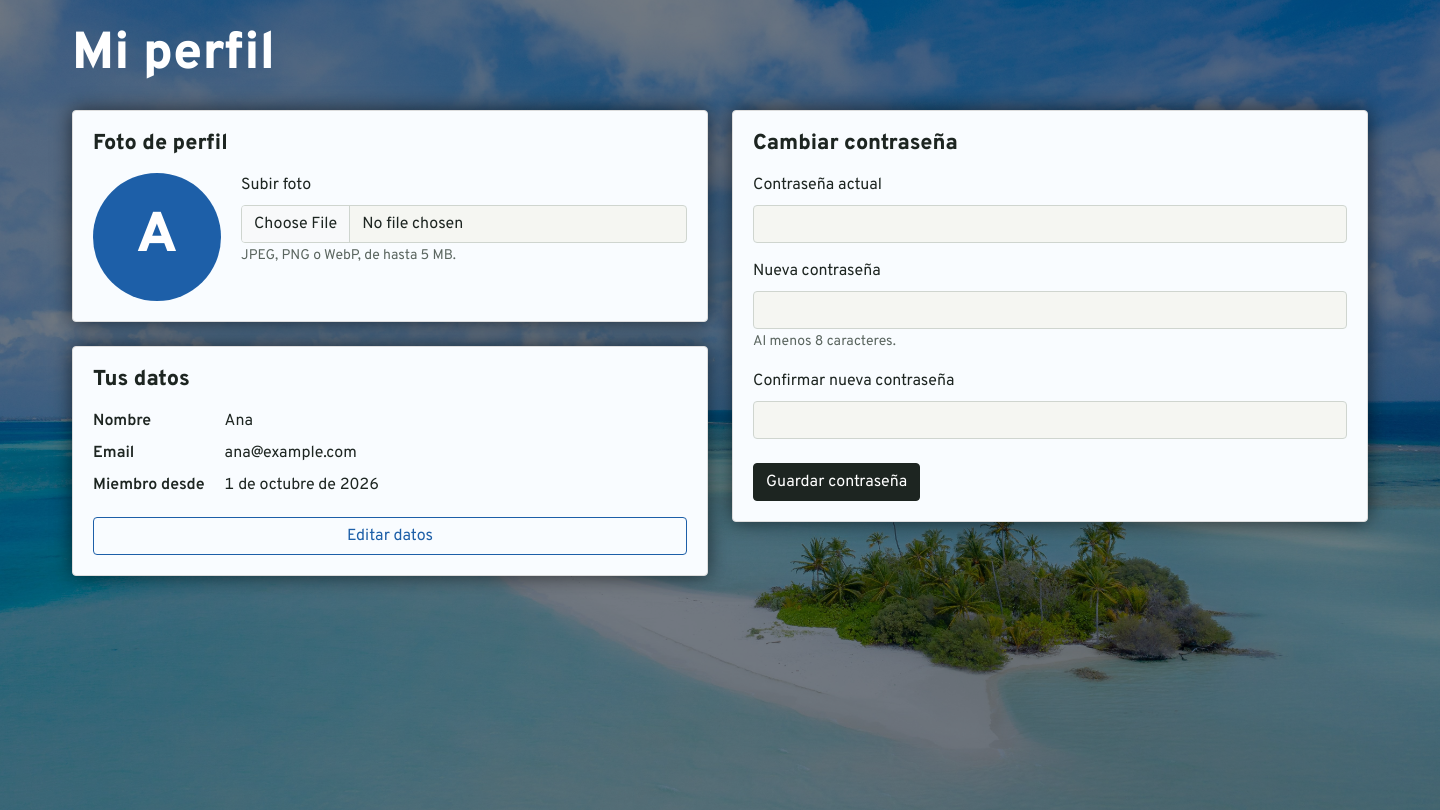
it: B3 ProfilePage details › edit mode starts with the current values and Cancel goes back
This screenshot has width=1440, height=810.
Expected: the heading "Tus datos" is shown, [93,366,190,393]
Click the button "Editar datos".
click(390, 536)  # box [93,517,687,555]
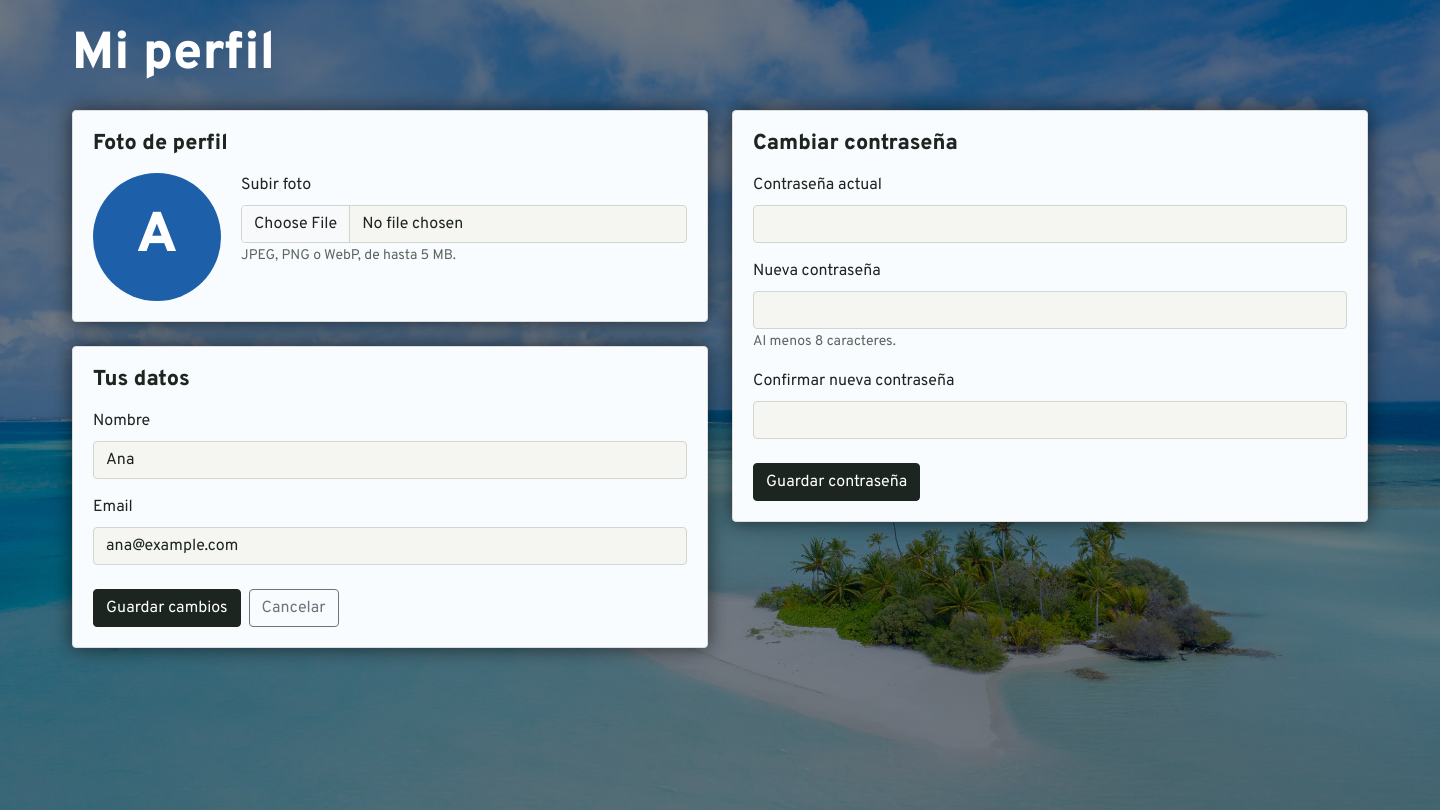
Result: the field labelled "Nombre" holds "Ana"
Result: the field labelled "Email" holds "ana@example.com" at [93,527,687,565]
Replace the text in the field labelled "Nombre" with "Otra" at (390, 460), box [93,441,687,479]
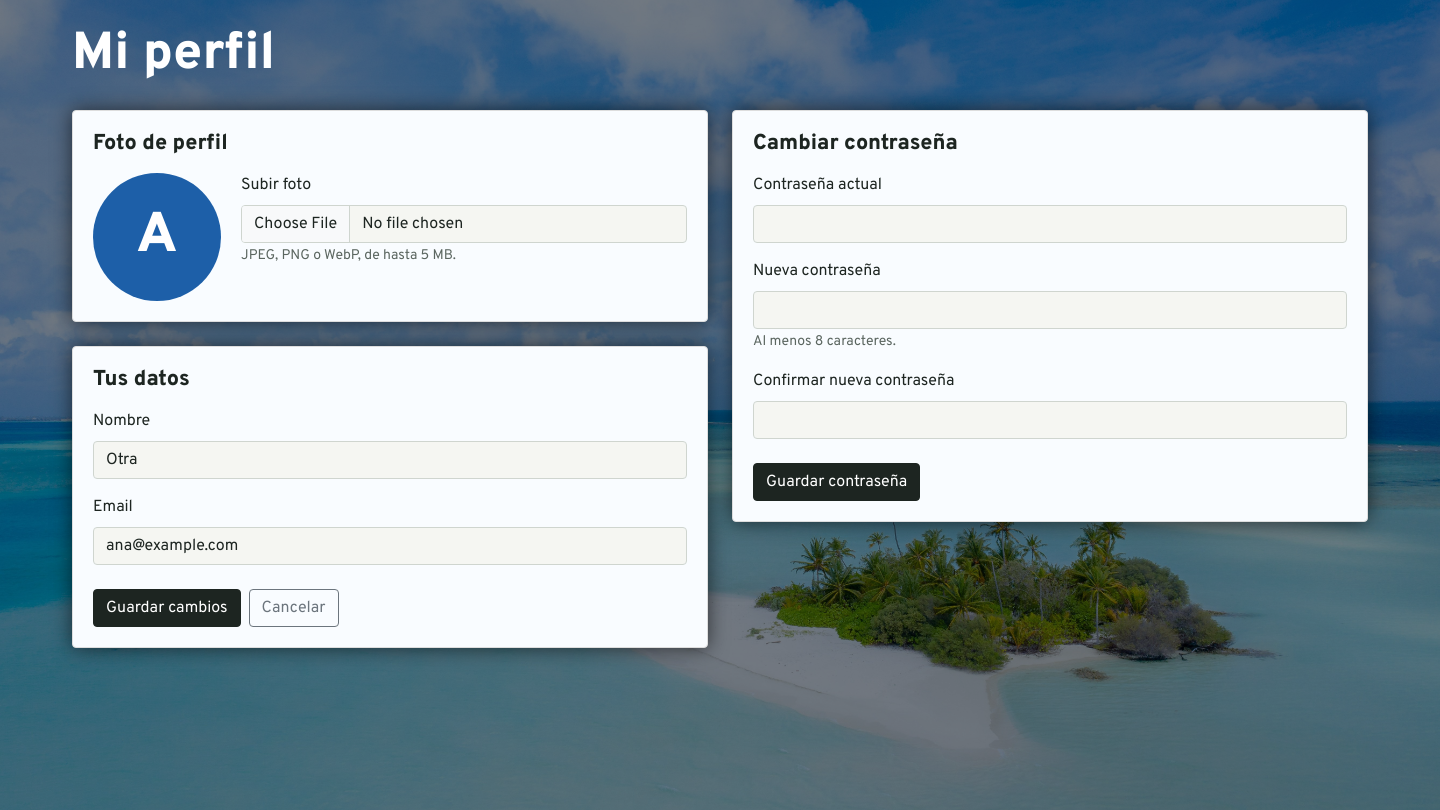
Click the button "Cancelar".
click(294, 608)  # box [248,589,338,627]
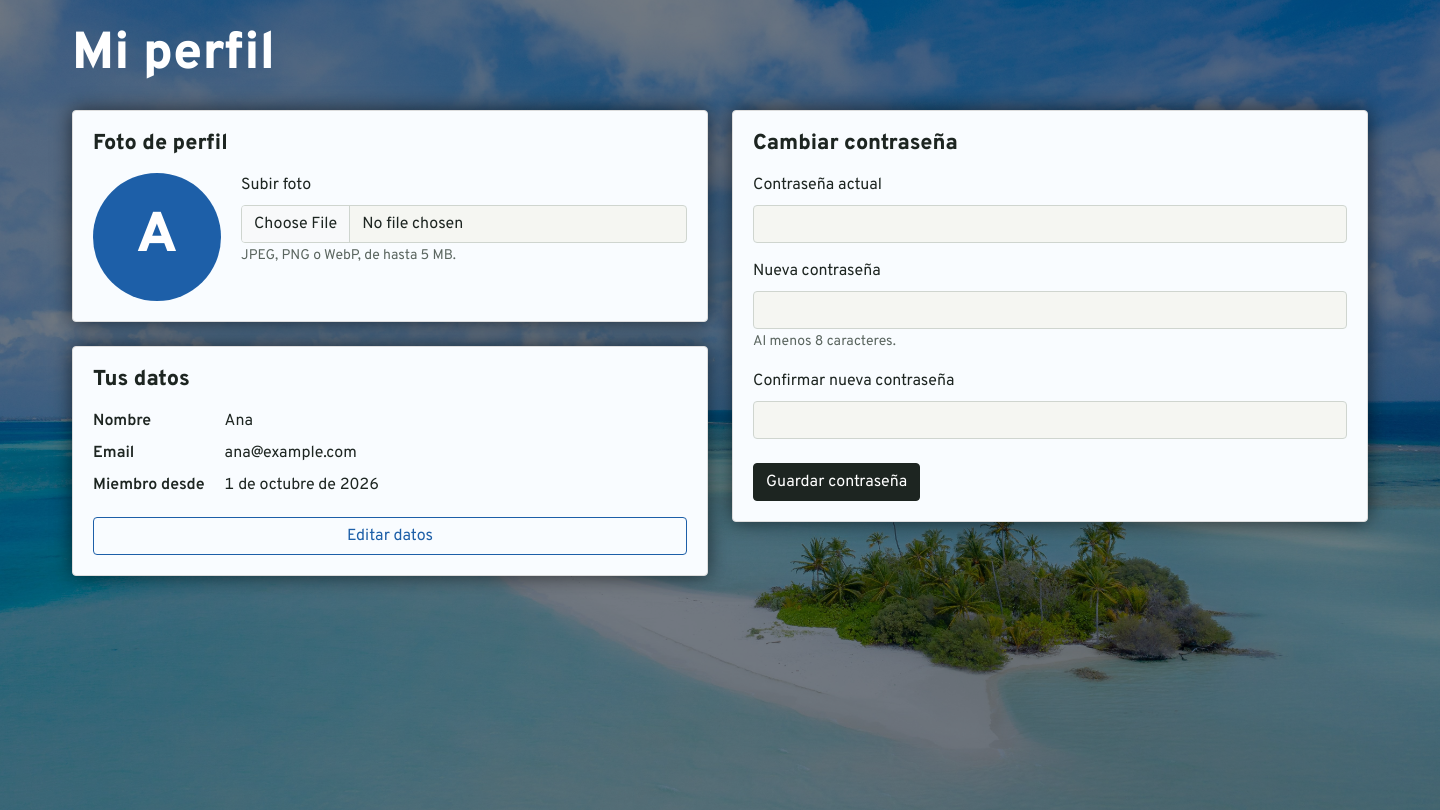
Result: the text "Ana" is shown at [224,411,253,431]
Click the button "Editar datos".
click(390, 536)  # box [93,517,687,555]
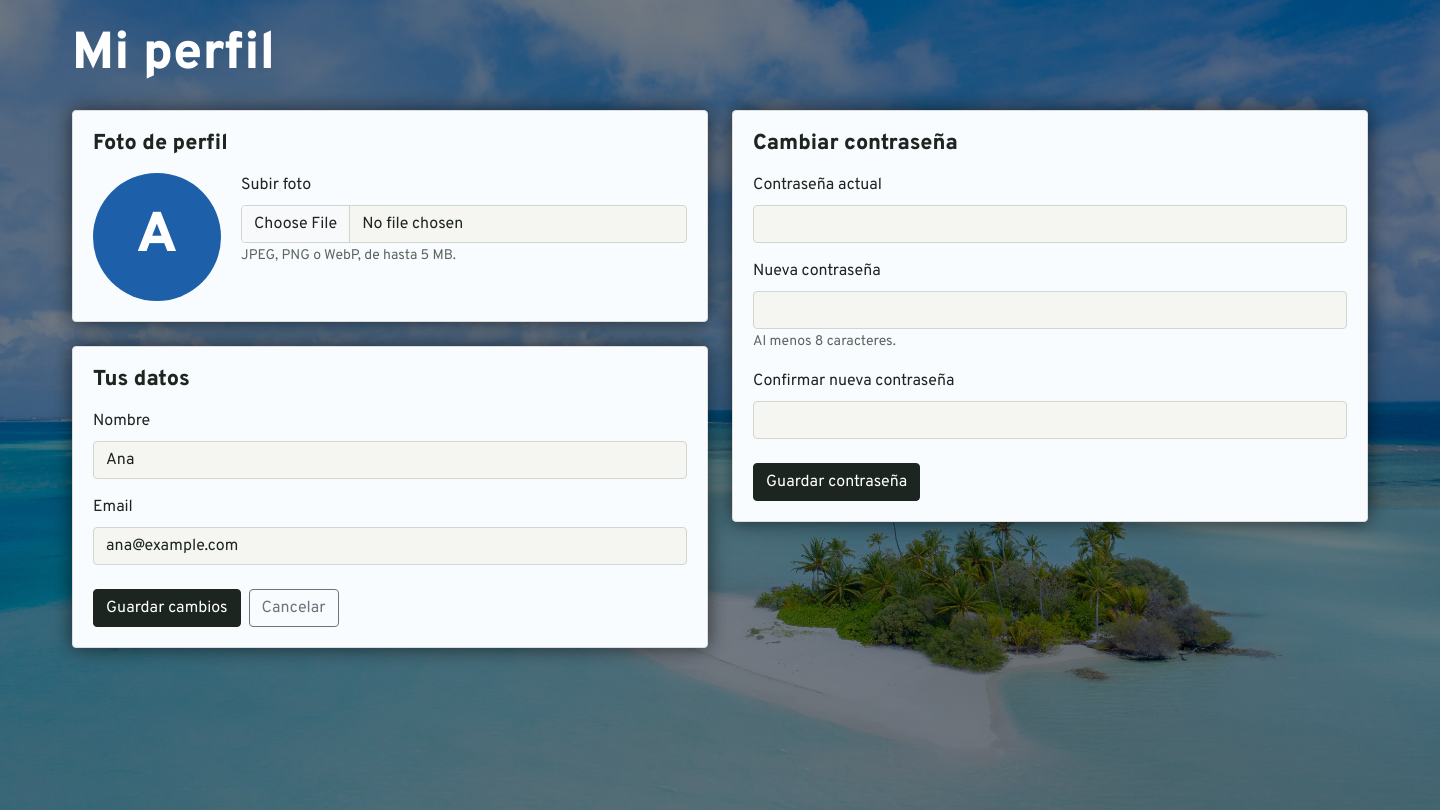
Result: the field labelled "Nombre" holds "Ana" at [93,441,687,479]
